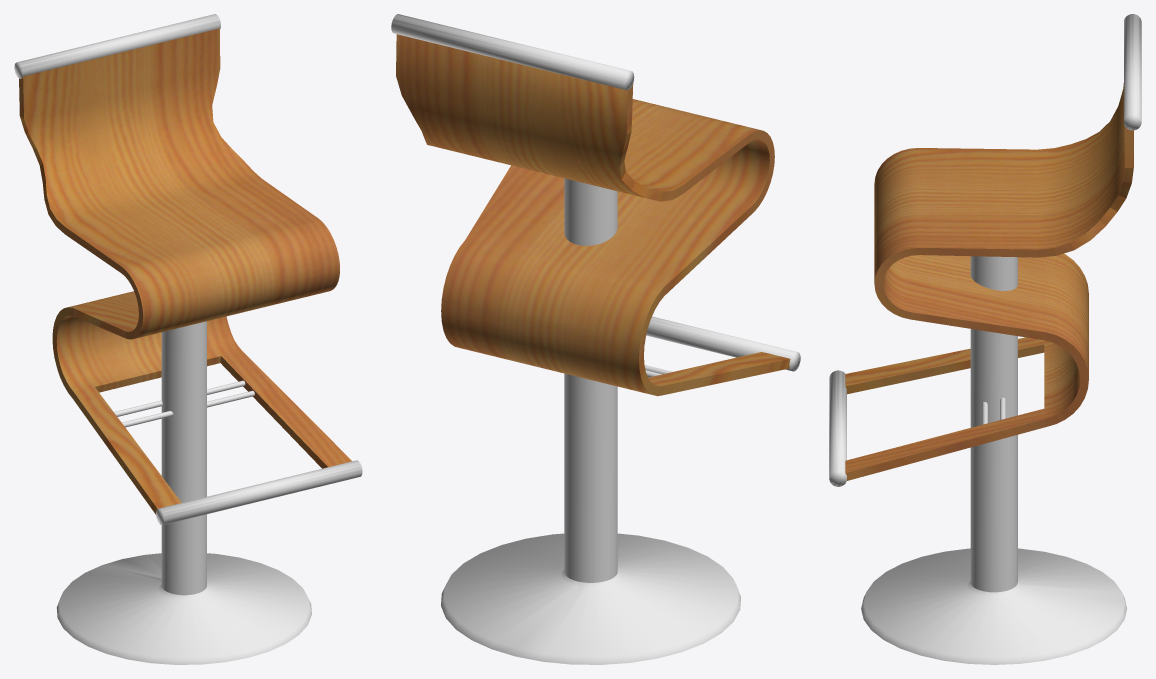
File: stool-bar.glb
The picture shows the model from 3 angles, left to right: view 1: azimuth 30°, elevation 25°; view 2: azimuth 150°, elevation 25°; view 3: azimuth 270°, elevation 25°; orthographic projection. The views are drawn at different scales.
Visible parts, largest first — view 1: symbol; view 2: symbol; view 3: symbol.
Boxes of the visible parts, left/top/right/bottom form: symbol: left=14, top=14, right=362, bottom=664; symbol: left=391, top=14, right=800, bottom=664; symbol: left=829, top=14, right=1141, bottom=664.
Size of the model in its own units: 0.45 by 1.02 by 0.528.
Materials: 8 (2 with a texture image).
